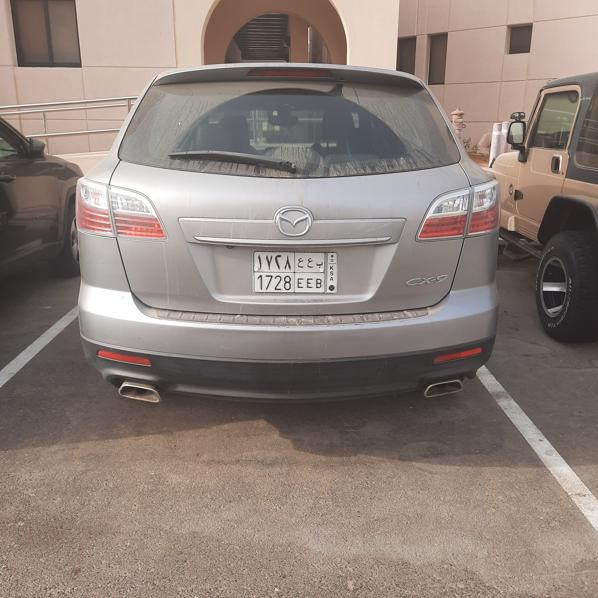numberplate: (253, 250, 338, 295)
